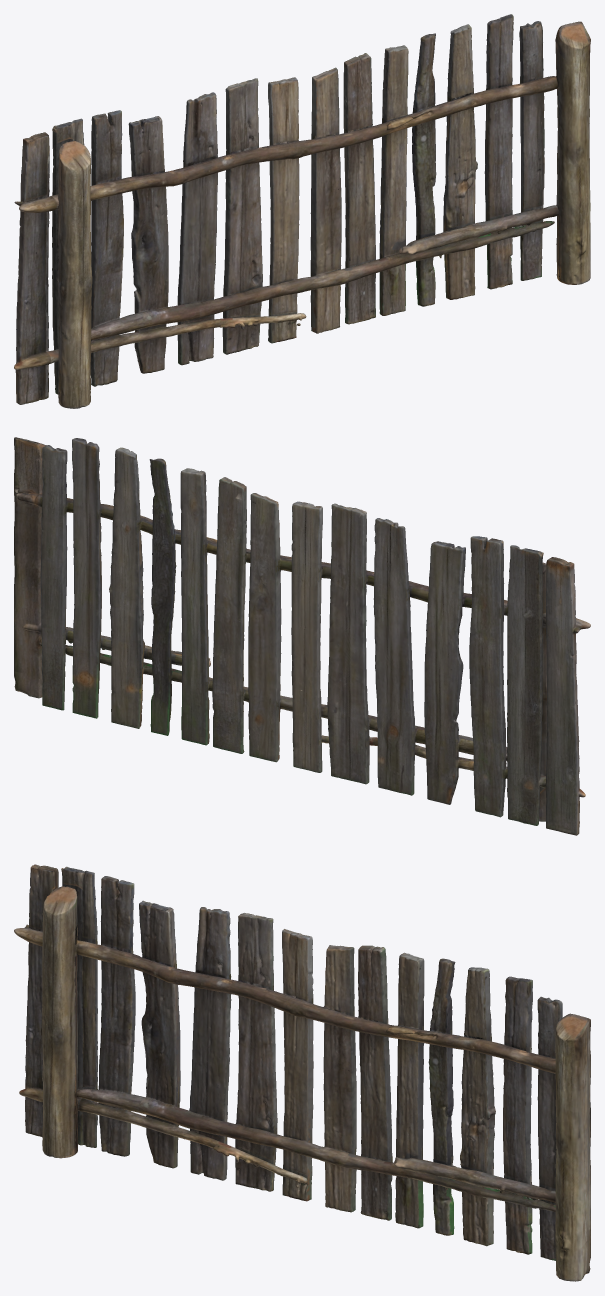
File: Weathered_Fence.glb
3 renders of one model, top to bottom at view 1: azimuth 30°, elevation 25°; view 2: azimuth 150°, elevation 25°; view 3: azimuth 330°, elevation 25°, orthographic.
Size of the model in its own units: 1.9 by 0.8691 by 0.1322.
1 material, 1 textured.
